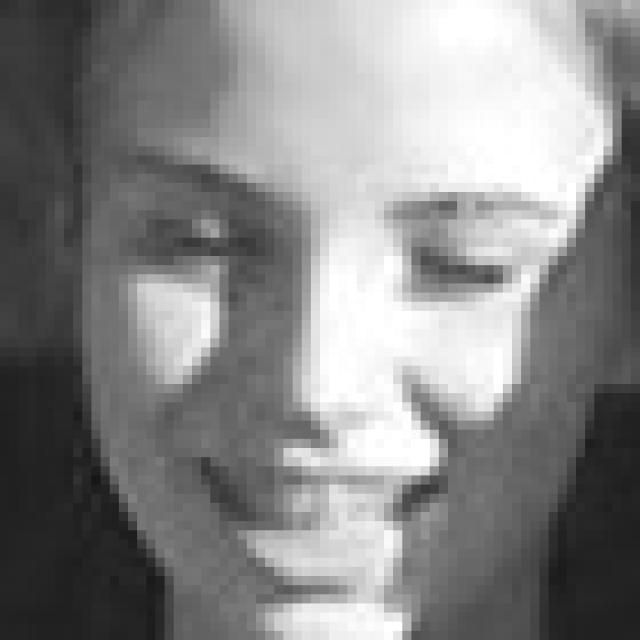real: (72, 28, 621, 636), (142, 192, 542, 318)
